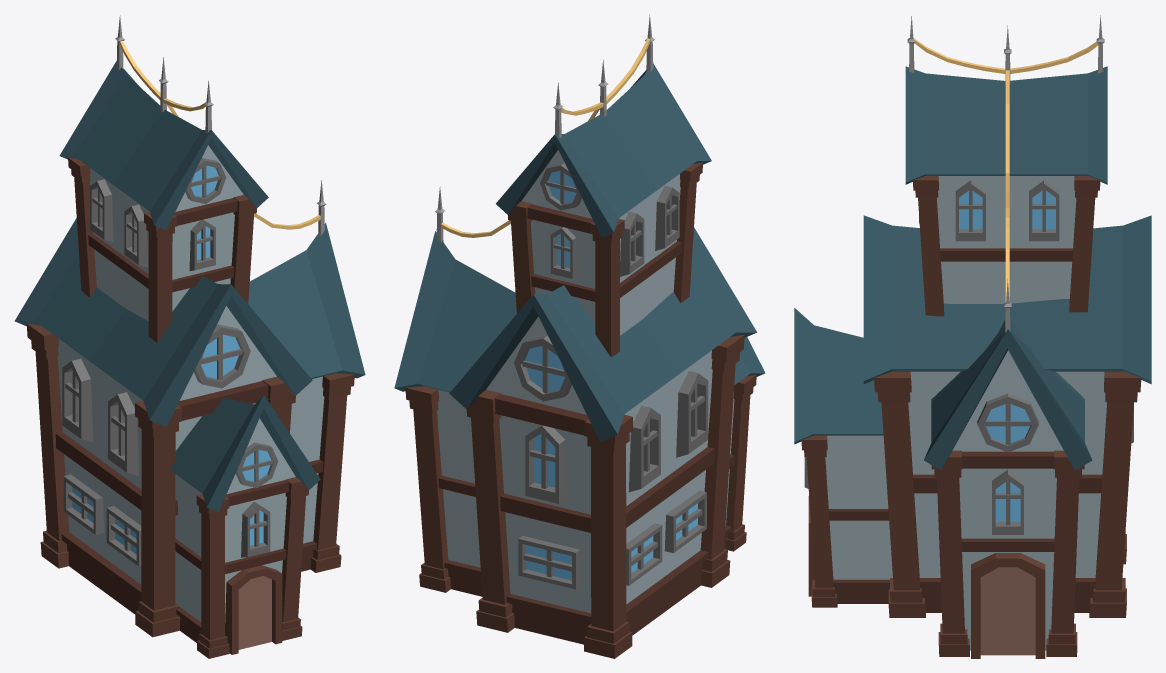
Rendered from CASA10.fbx.
3 renders of one model, left to right at view 1: azimuth 30°, elevation 25°; view 2: azimuth 150°, elevation 25°; view 3: azimuth 270°, elevation 25°, orthographic. The views are drawn at different scales.
Visible parts, largest first — view 1: CASA10; view 2: CASA10; view 3: CASA10.
Part boxes in pixels (bbox=[...]): CASA10: bbox=[15, 15, 365, 658]; CASA10: bbox=[394, 14, 765, 658]; CASA10: bbox=[794, 15, 1151, 658].
Size of the model in its own units: 876 by 1833 by 1043.
Materials: 1 (1 with a texture image).
